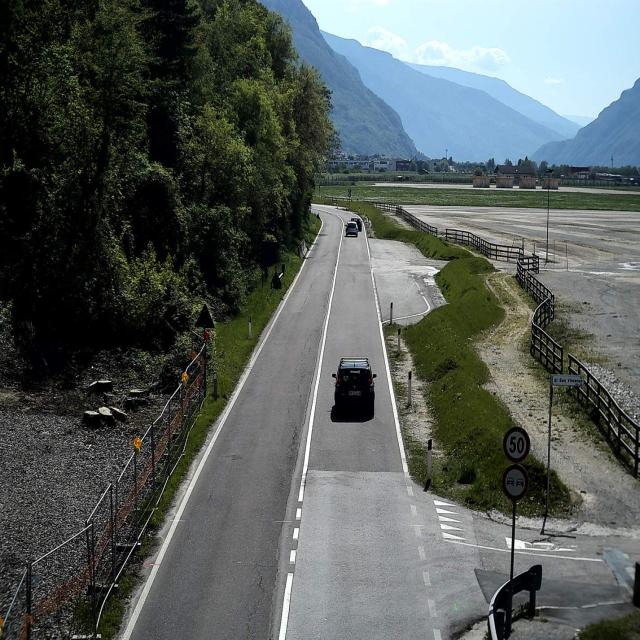car: (333, 358, 376, 421), (345, 221, 358, 237)
